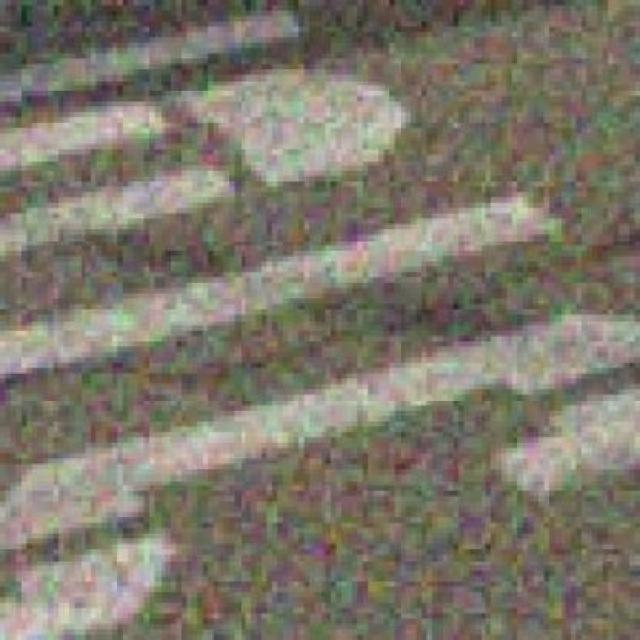crosswalk: (2, 7, 640, 558)
